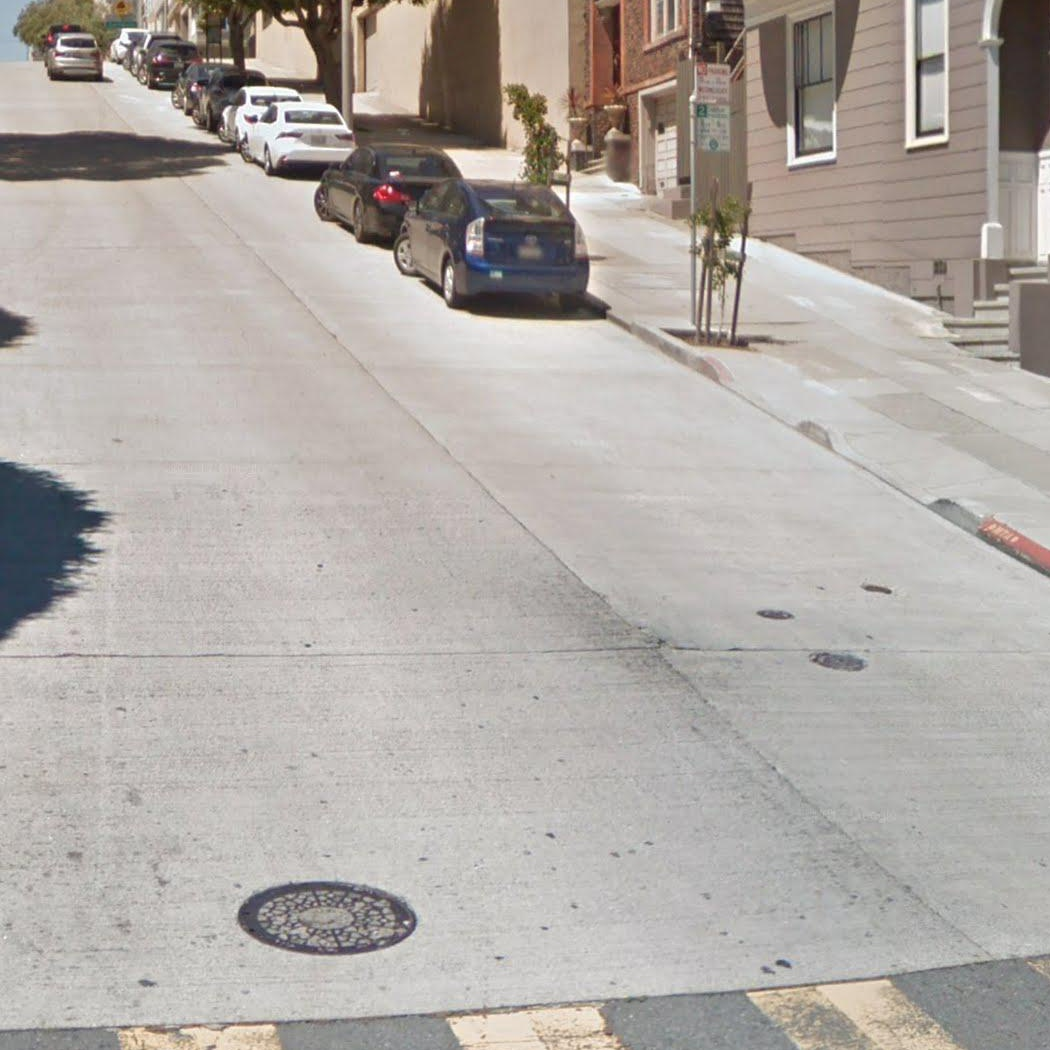2 Hour Parking: (691, 104, 733, 154)
No Parking: (693, 61, 732, 103)
